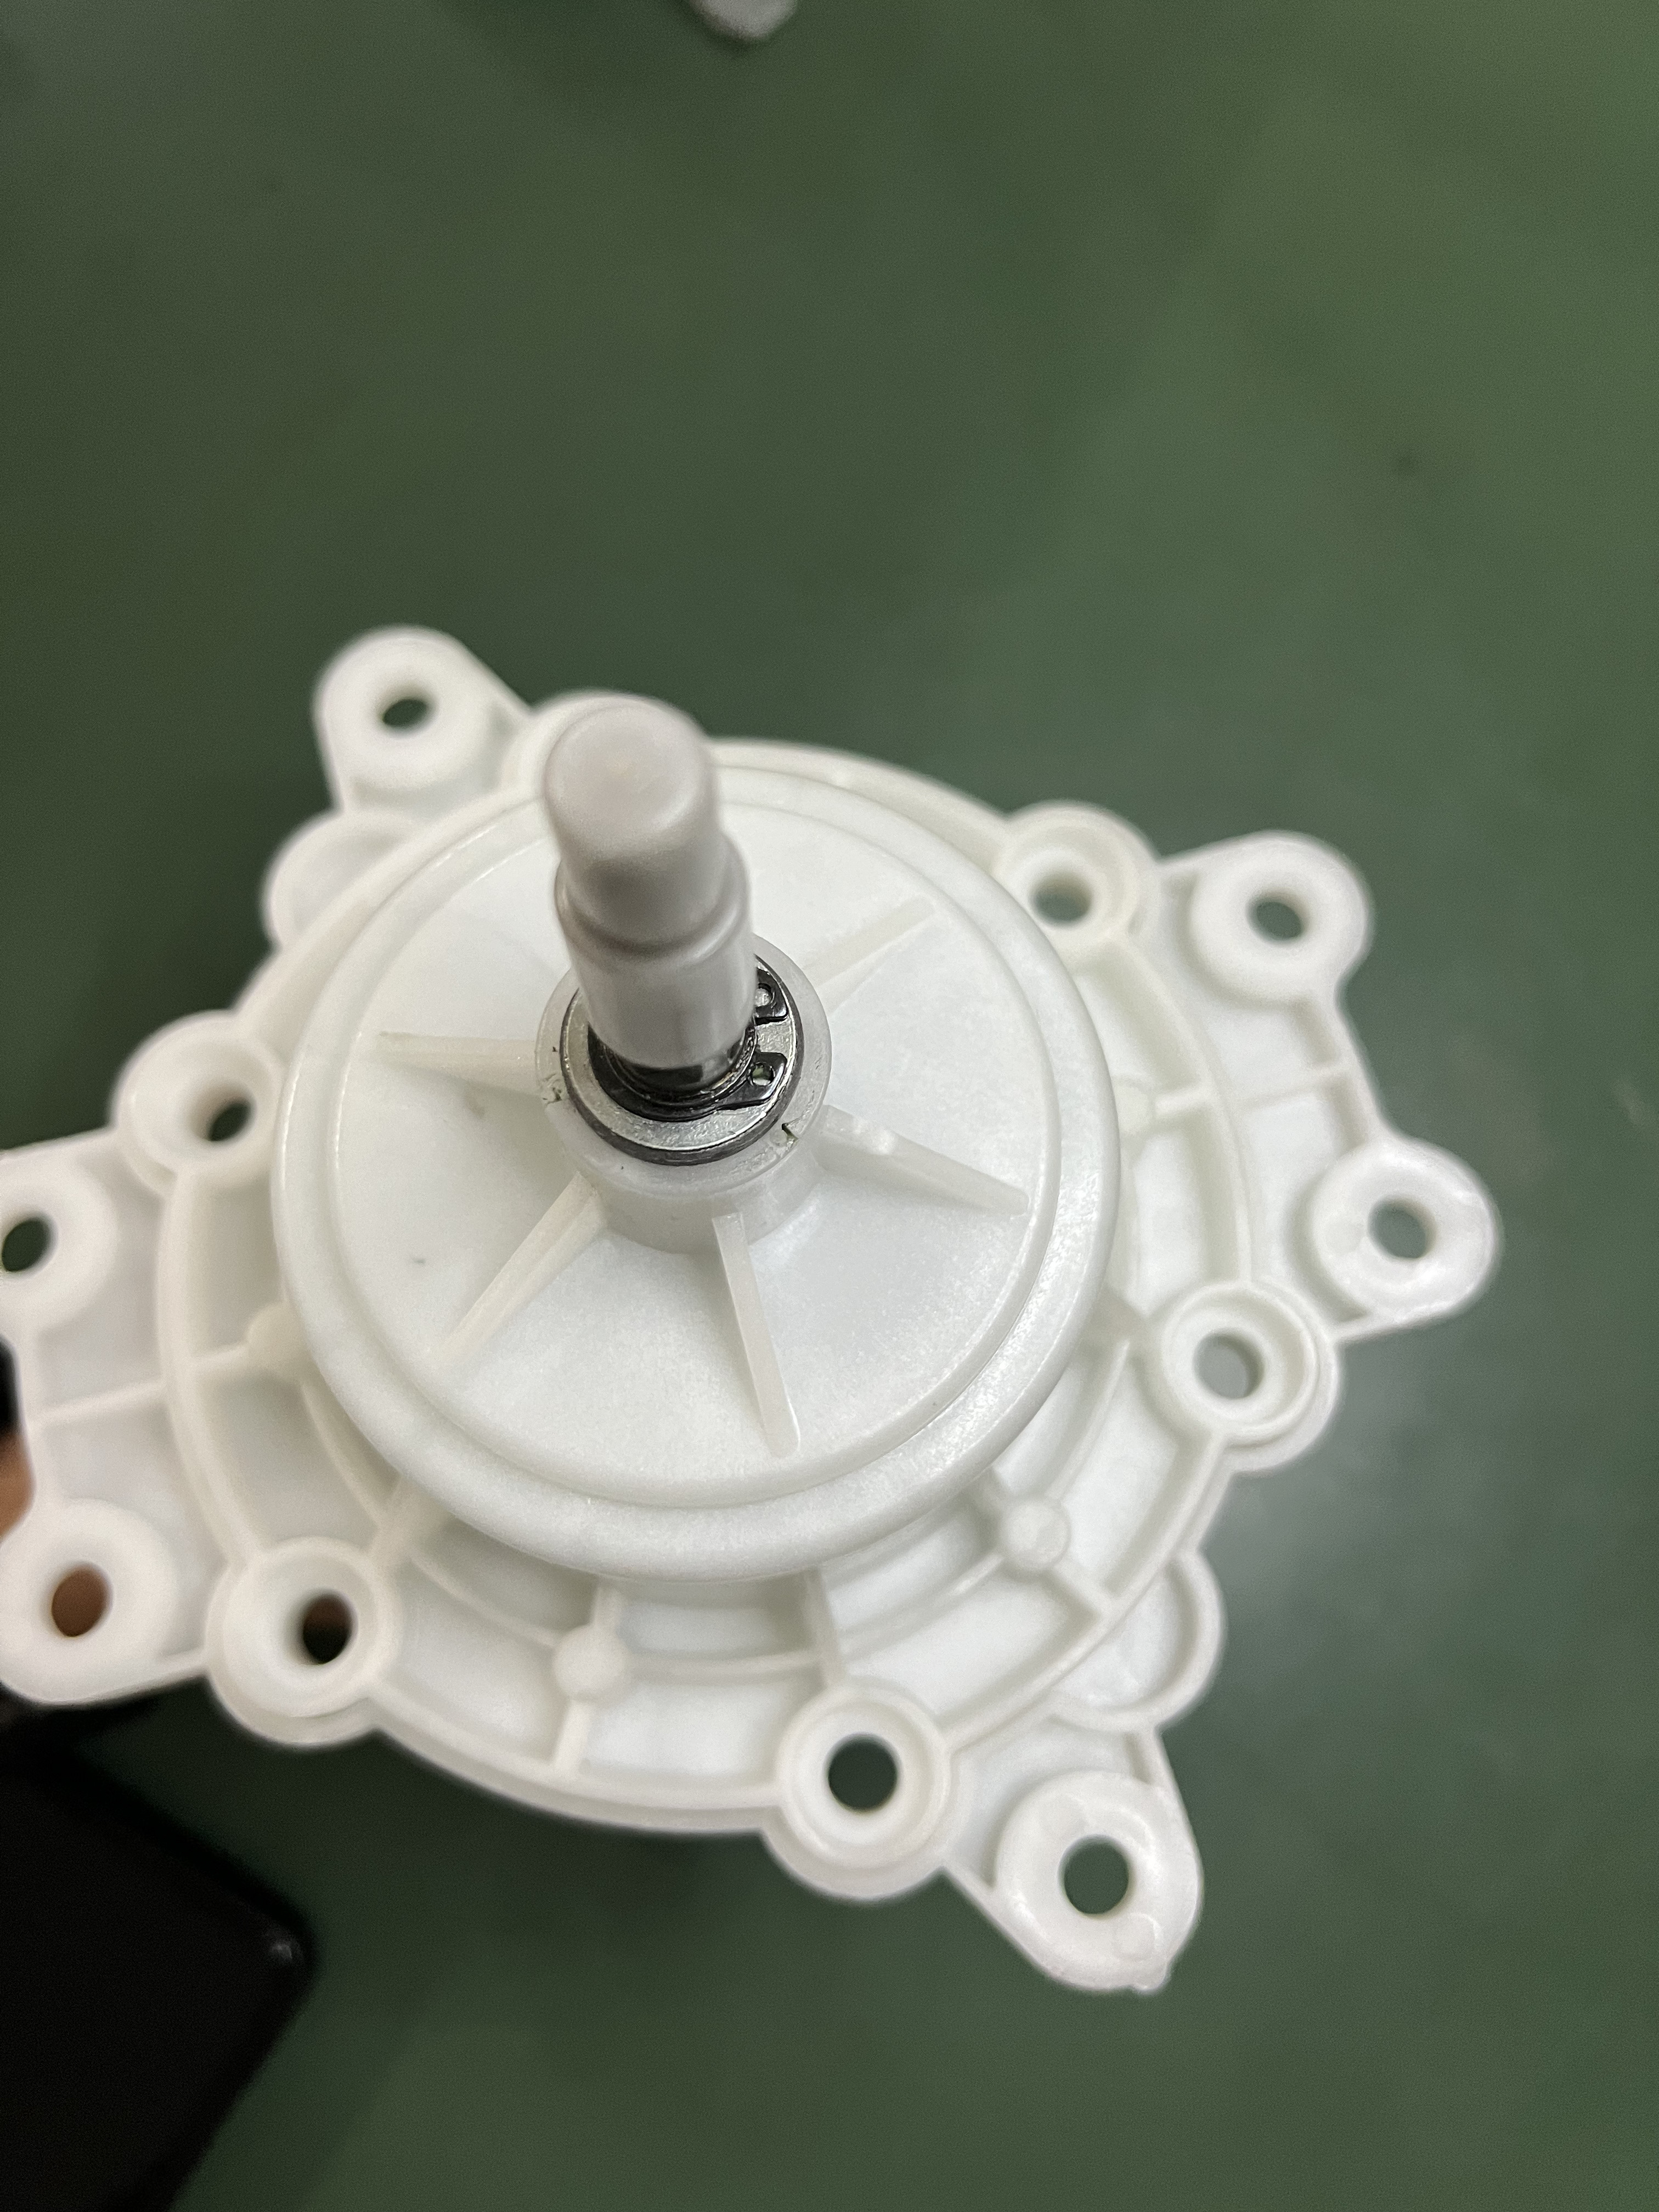gear_box_design: (24, 622, 1520, 2000)
